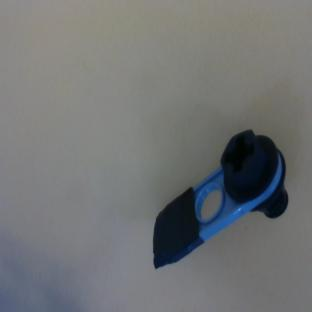part_1_bad: (119, 121, 304, 270)
